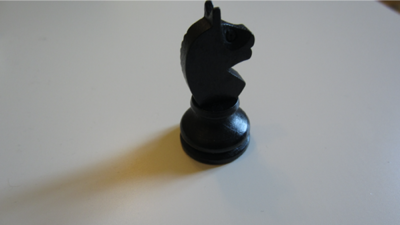black-knight: (178, 1, 257, 168)
